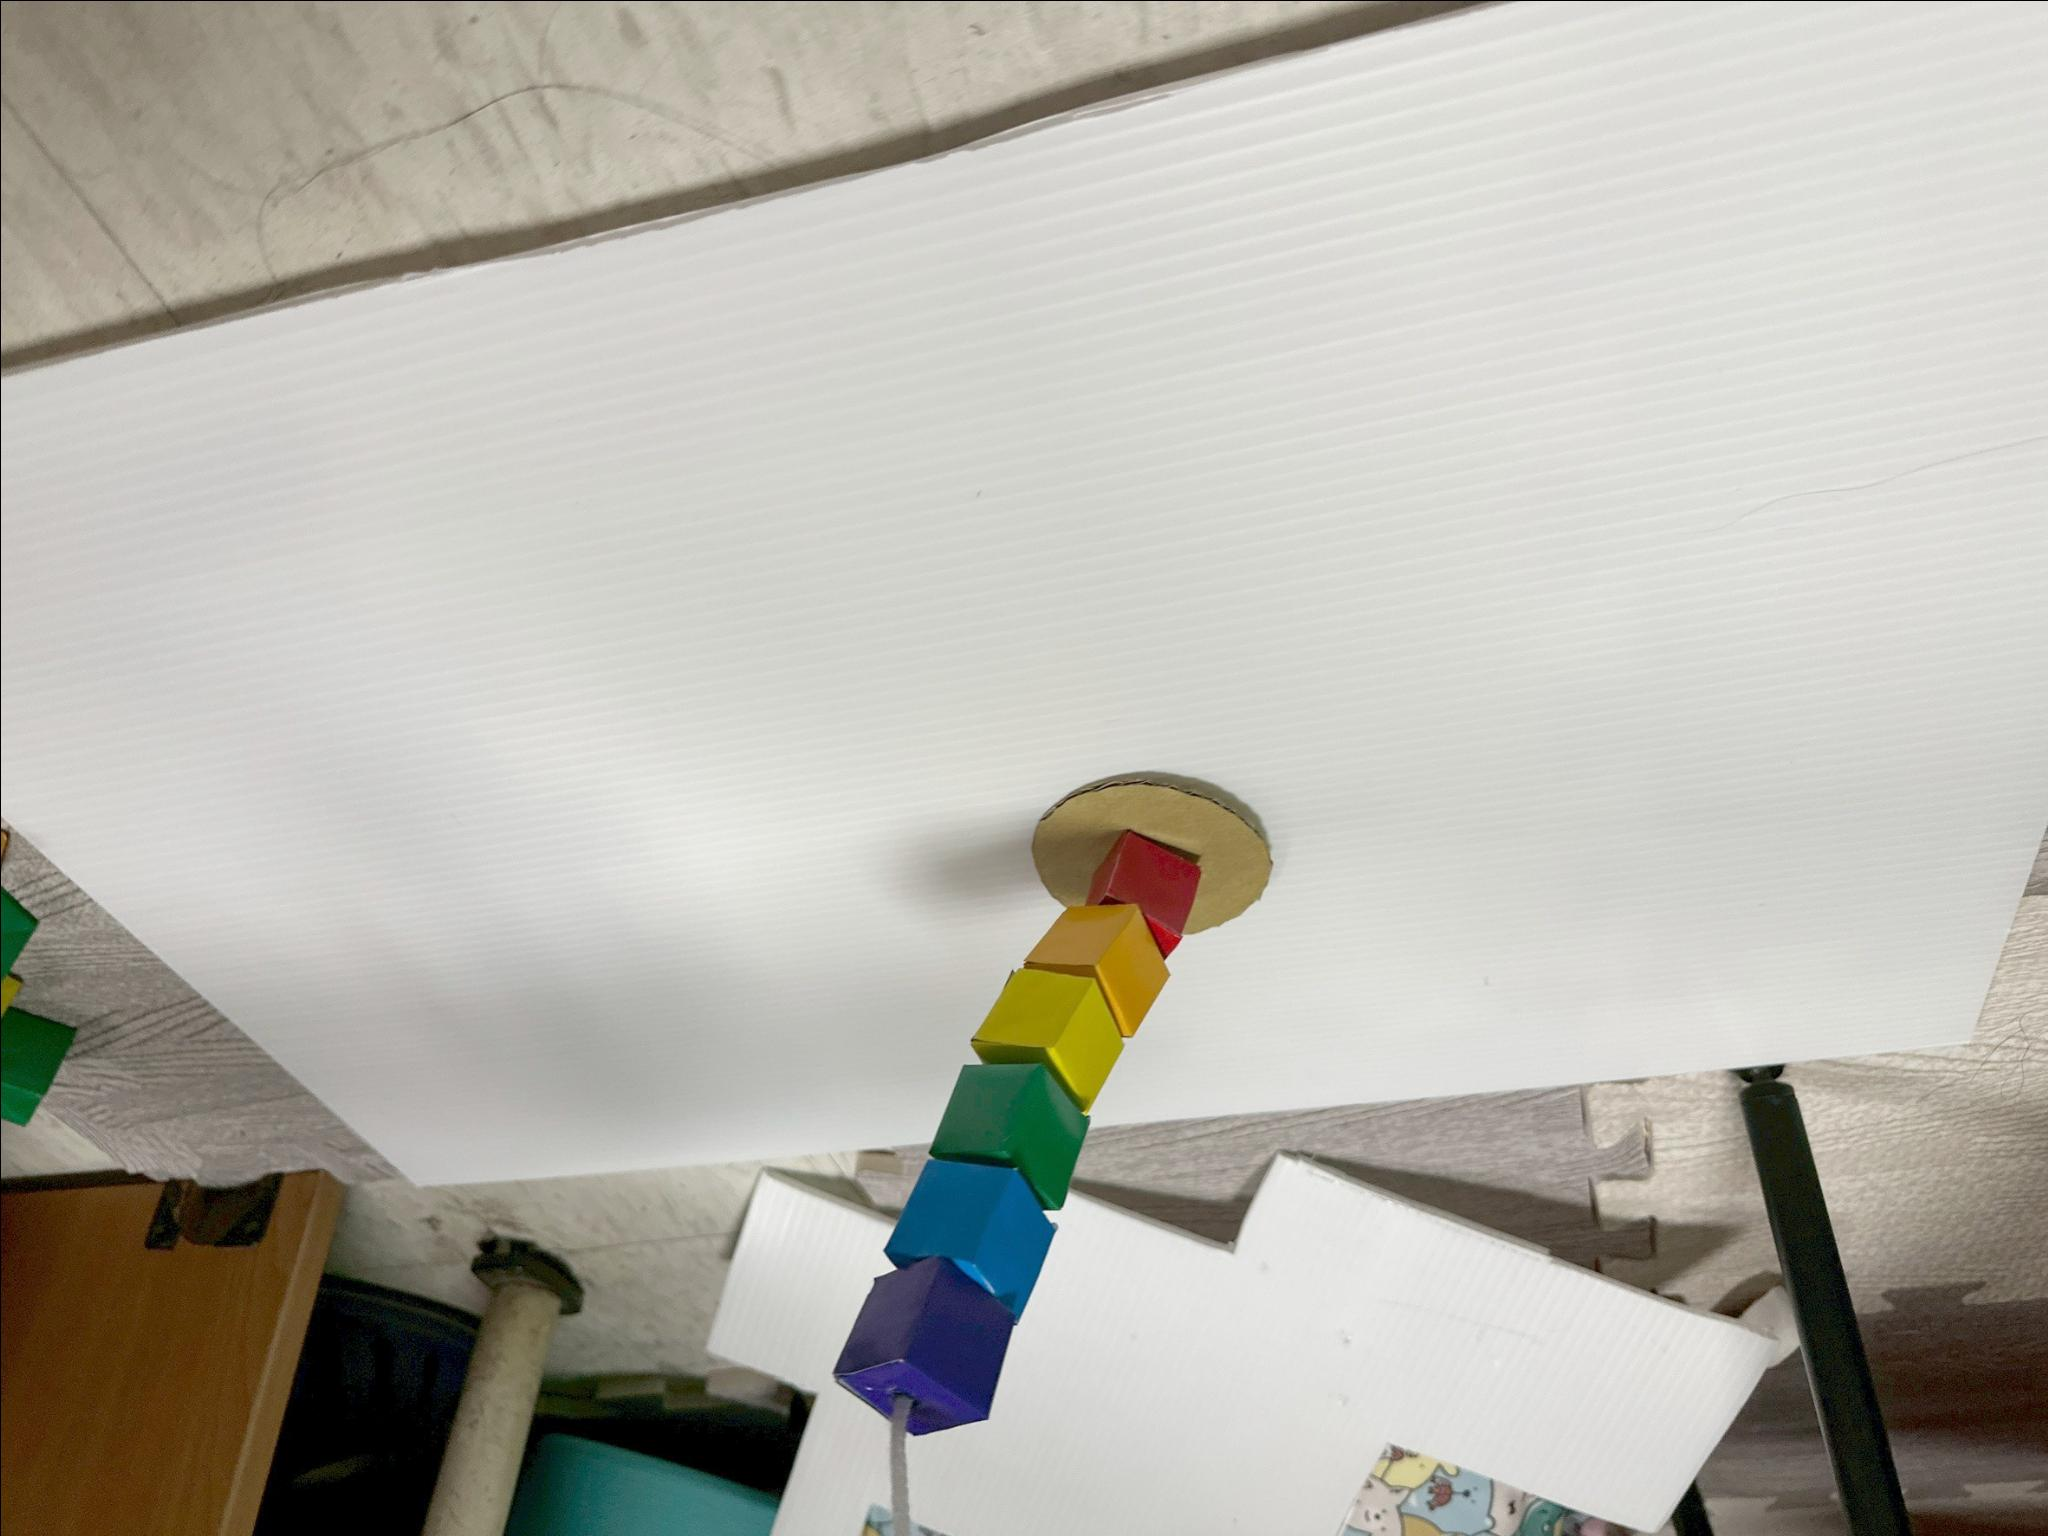base: (1032, 779, 1271, 933)
cube: (834, 1257, 1014, 1434), (884, 1157, 1055, 1323), (929, 1063, 1087, 1207), (972, 966, 1121, 1115), (1027, 902, 1166, 1036), (1087, 829, 1200, 958), (0, 1007, 74, 1125)
